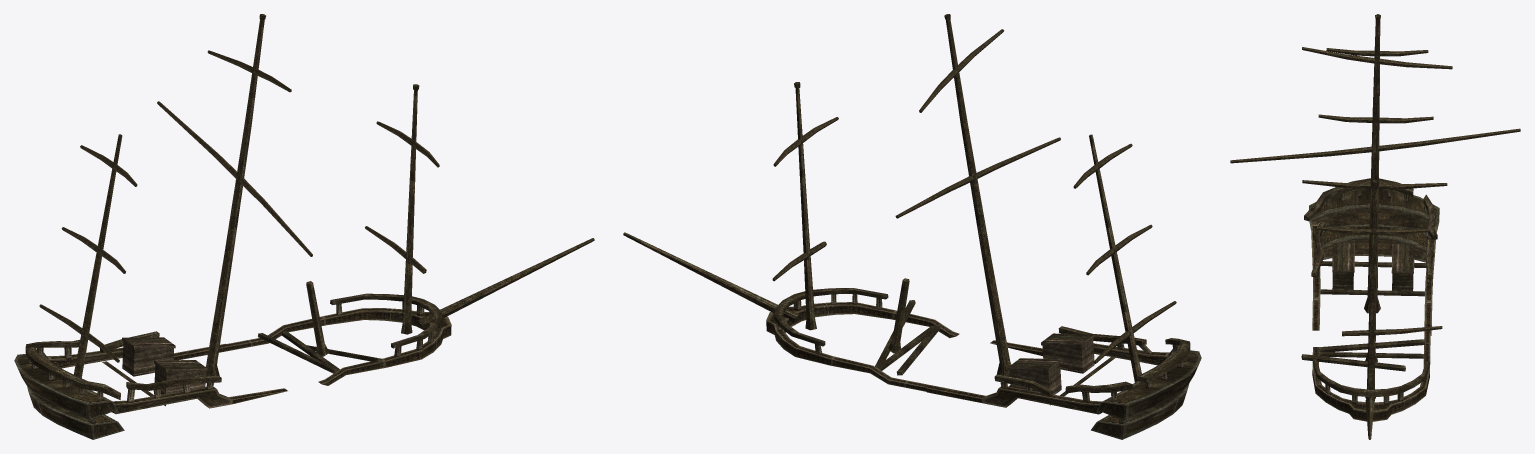
Rendered from ships_brokenup00.fbx.
3 views of the same model, side by side, from view 1: azimuth 30°, elevation 25°; view 2: azimuth 150°, elevation 25°; view 3: azimuth 270°, elevation 25° (orthographic). The views are drawn at different scales.
Visible parts, largest first — view 1: fort_ship01_02, fort_ship02_02, fort_ship04_02; view 2: fort_ship01_02, fort_ship02_02, fort_ship04_02; view 3: fort_ship01_02, fort_ship04_02, fort_ship02_02.
Boxes of the visible parts, x1,y1,x2,y2 form: fort_ship01_02: [25, 14, 594, 406]; fort_ship02_02: [29, 301, 451, 423]; fort_ship04_02: [14, 352, 124, 439]; fort_ship01_02: [623, 14, 1190, 405]; fort_ship02_02: [766, 294, 1186, 423]; fort_ship04_02: [1091, 349, 1201, 439]; fort_ship01_02: [1230, 14, 1520, 439]; fort_ship04_02: [1309, 188, 1439, 262]; fort_ship02_02: [1311, 189, 1436, 421].
Bounding box in the file's own units: 48.57 × 29.41 × 23.44.
